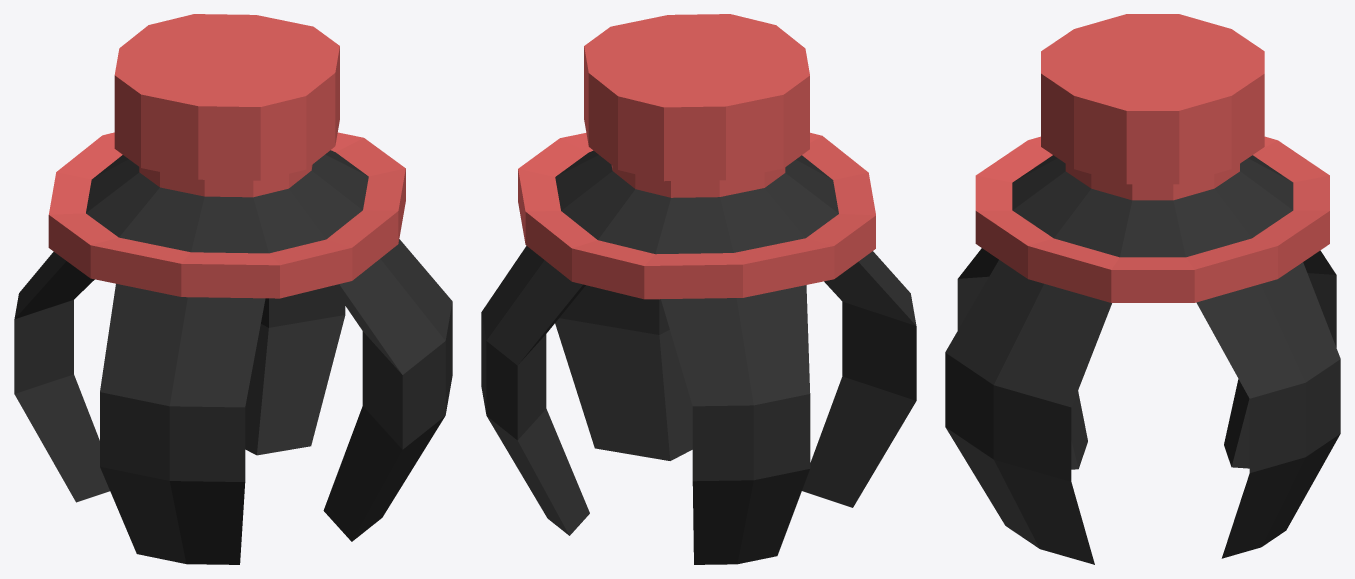
Rendered from kran_2.fbx.
3 renders of one model, left to right at view 1: azimuth 30°, elevation 25°; view 2: azimuth 150°, elevation 25°; view 3: azimuth 270°, elevation 25°, orthographic.
Visible parts, largest first — view 1: Cube.075; view 2: Cube.075; view 3: Cube.075.
Boxes of the visible parts, x1,y1,x2,y2 form: Cube.075: (14, 14, 452, 564); Cube.075: (481, 14, 916, 564); Cube.075: (945, 14, 1340, 564).
Bounding box in the file's own units: 543 × 638 × 521.
